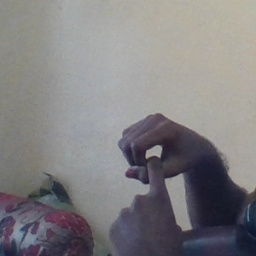Q: (106, 109, 203, 246)
